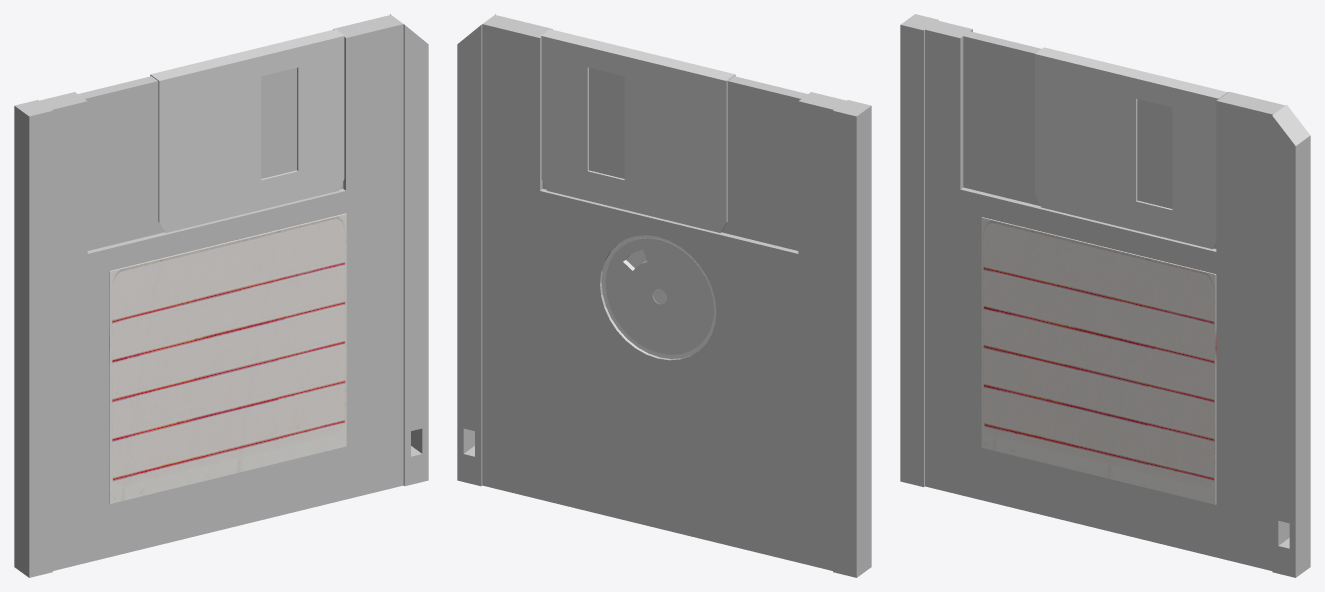
The model's file is floppy.glb.
3 views of the same model, side by side, from view 1: azimuth 30°, elevation 25°; view 2: azimuth 150°, elevation 25°; view 3: azimuth 330°, elevation 25° (orthographic).
Parts seen in each view (by area): view 1: FloppyDisk; view 2: FloppyDisk; view 3: FloppyDisk.
Boxes of the visible parts, x1,y1,x2,y2 form: FloppyDisk: (14, 14, 428, 577); FloppyDisk: (457, 14, 871, 577); FloppyDisk: (900, 14, 1310, 577).
Size of the model in its own units: 336 by 372 by 21.72.
4 materials, 1 textured.
